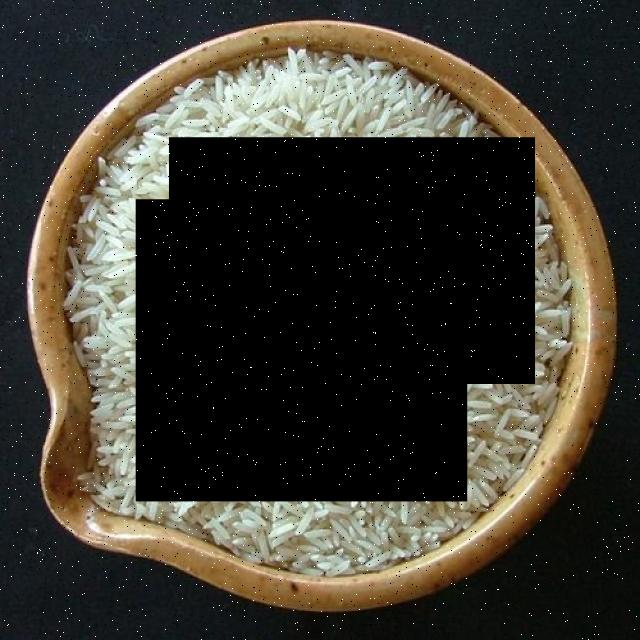Rice: (136, 199, 467, 502), (169, 138, 536, 384)
